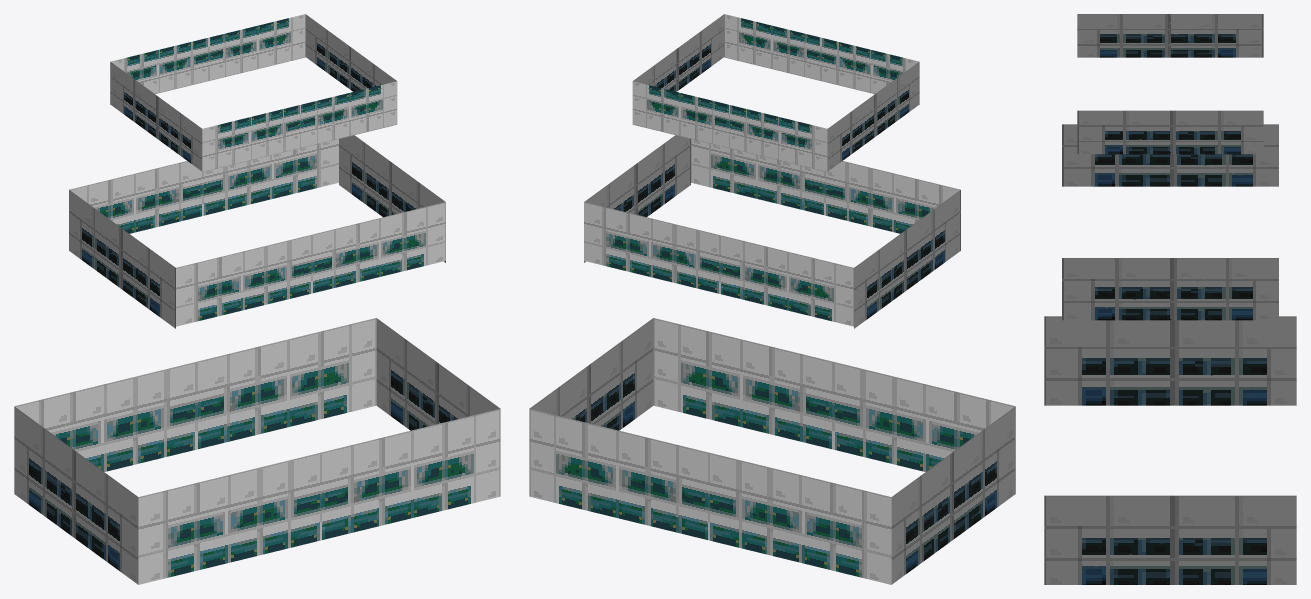
The picture shows the model from 3 angles, left to right: view 1: azimuth 30°, elevation 25°; view 2: azimuth 150°, elevation 25°; view 3: azimuth 270°, elevation 25°; orthographic projection.
Parts seen in each view (by area): view 1: obj-134; view 2: obj-134; view 3: obj-134.
Part boxes in pixels (box(x1,y1,x2,y2)): obj-134: box(14, 14, 500, 584); obj-134: box(529, 14, 1015, 584); obj-134: box(1044, 14, 1296, 584).
Size of the model in its own units: 5.96 by 6.68 by 3.54.
1 material, 1 textured.
